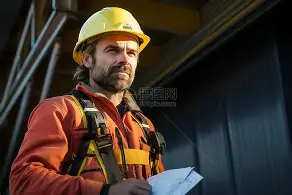safety belt: (60, 97, 172, 194)
